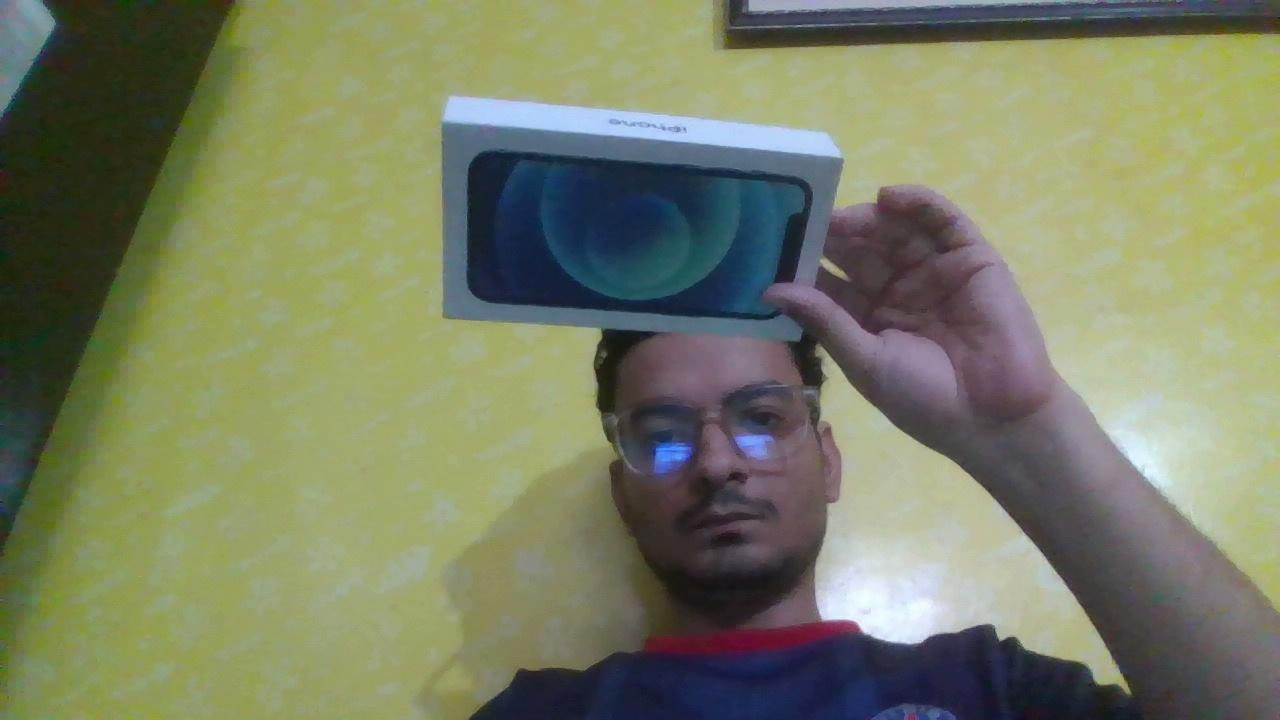Phone: (391, 59, 866, 375)
